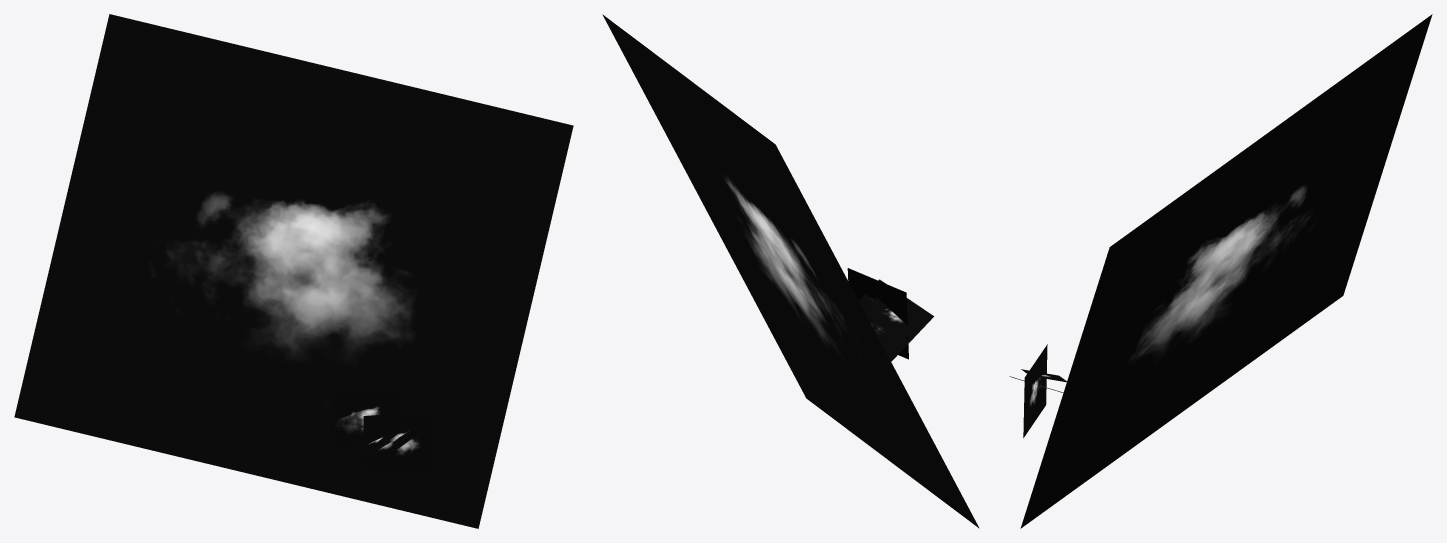
Rendered from Final_Dust_Scene_v3_alpha_masked_emission.glb.
The picture shows the model from 3 angles, left to right: view 1: azimuth 30°, elevation 25°; view 2: azimuth 150°, elevation 25°; view 3: azimuth 270°, elevation 25°; orthographic projection. The views are drawn at different scales.
Parts seen in each view (by area): view 1: Fog / Cloud Plane 7.002, Fog / Cloud Plane 7.001, Fog / Cloud Plane 7, Fog / Cloud Plane 7.004; view 2: Fog / Cloud Plane 7.002, Fog / Cloud Plane 7.001, Fog / Cloud Plane 7.004, Fog / Cloud Plane 7.009; view 3: Fog / Cloud Plane 7.002, Fog / Cloud Plane 7.001.
Part boxes in pixels (bbox=[...]): Fog / Cloud Plane 7.002: bbox=[14, 14, 573, 528]; Fog / Cloud Plane 7.001: bbox=[362, 410, 437, 476]; Fog / Cloud Plane 7: bbox=[329, 386, 404, 452]; Fog / Cloud Plane 7.004: bbox=[349, 428, 422, 464]; Fog / Cloud Plane 7.002: bbox=[602, 14, 979, 528]; Fog / Cloud Plane 7.001: bbox=[847, 268, 908, 359]; Fog / Cloud Plane 7.004: bbox=[859, 279, 933, 361]; Fog / Cloud Plane 7.009: bbox=[866, 297, 924, 337]; Fog / Cloud Plane 7.002: bbox=[1020, 14, 1432, 528]; Fog / Cloud Plane 7.001: bbox=[1023, 344, 1047, 437].
Size of the model in its own units: 1206 by 1062 by 953.
6 materials, 6 textured.
